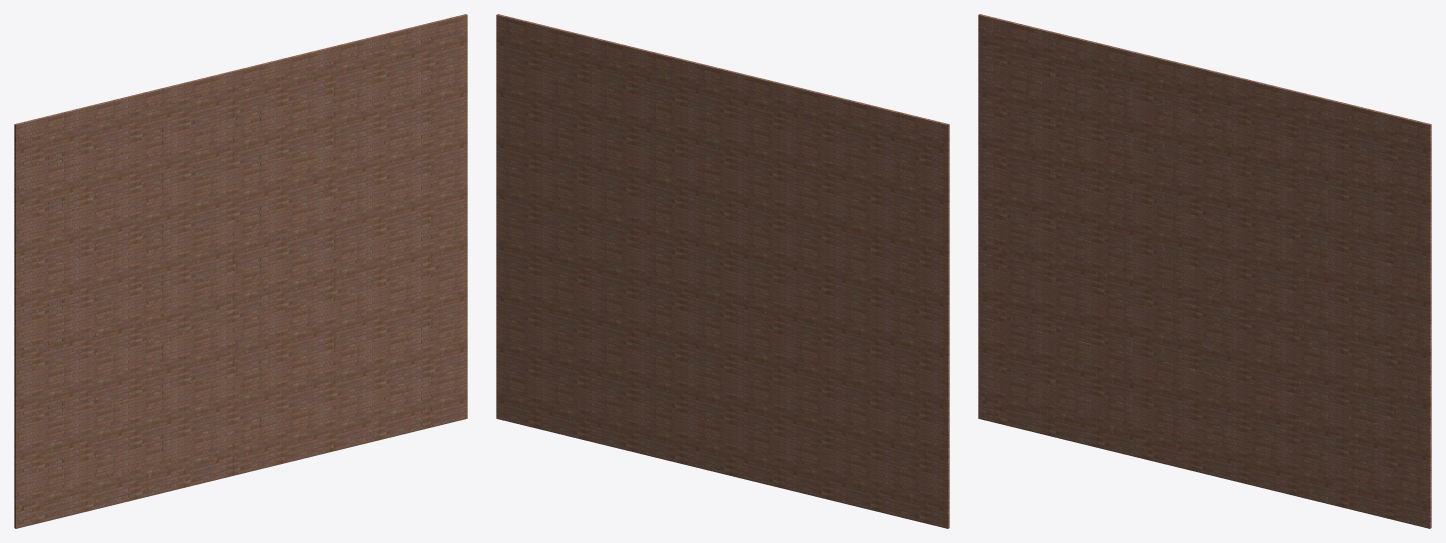
File: Tutorial_Model_Structure_BS4Wall_3.fbx
3 views of the same model, side by side, from view 1: azimuth 30°, elevation 25°; view 2: azimuth 150°, elevation 25°; view 3: azimuth 330°, elevation 25° (orthographic).
Parts seen in each view (by area): view 1: Wall_13; view 2: Wall_13; view 3: Wall_13.
Part boxes in pixels (x1,y1,x2,y2): Wall_13: (14,14,467,528); Wall_13: (496,14,949,528); Wall_13: (978,14,1431,528).
Size of the model in its own units: 728 by 622 by 4.51.
1 material, 1 textured.
